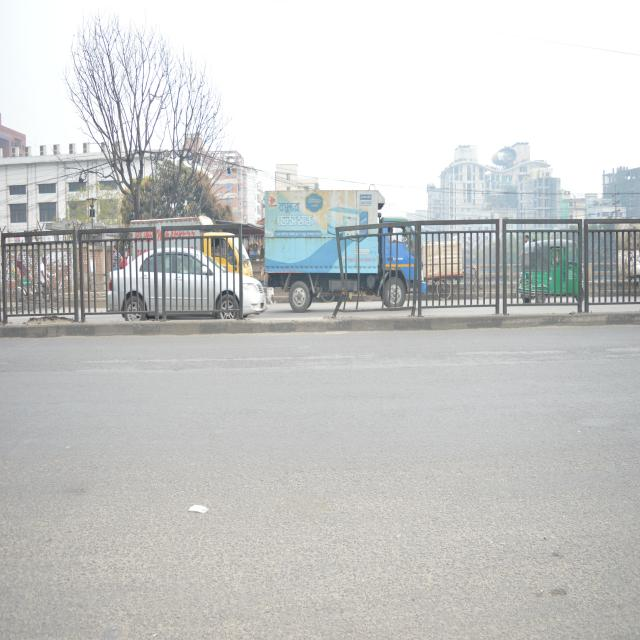car: (95, 243, 270, 337)
pickup-van: (253, 168, 432, 324), (124, 199, 261, 285)
